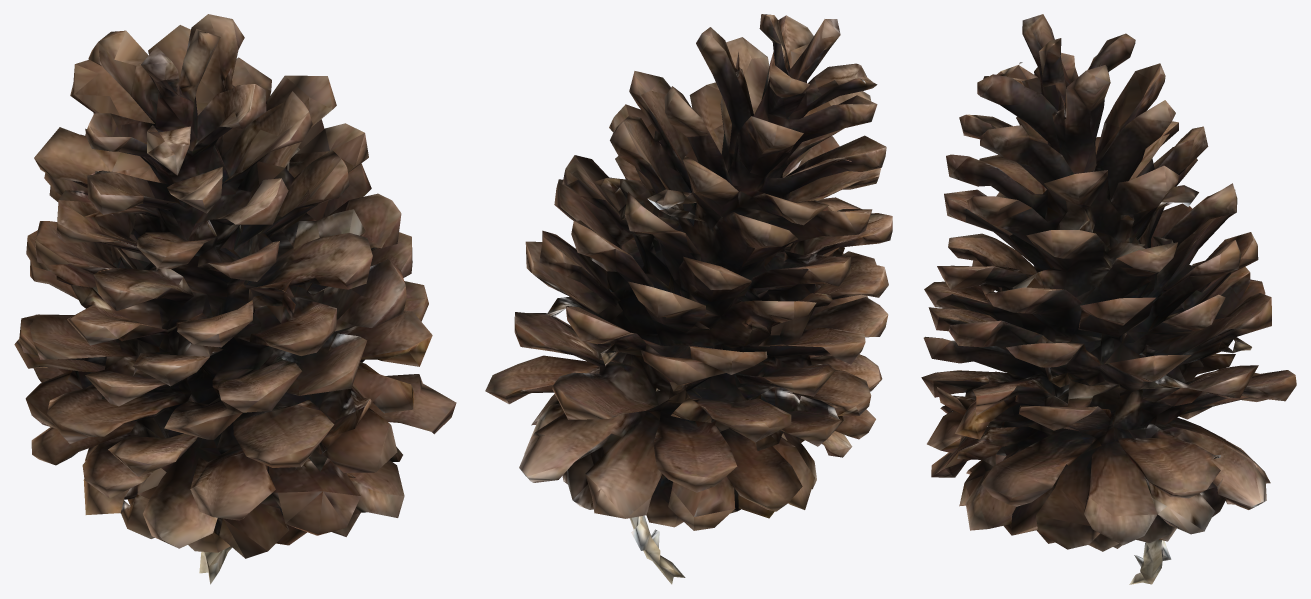
Rendered from pinecone.glb.
3 renders of one model, left to right at view 1: azimuth 30°, elevation 25°; view 2: azimuth 150°, elevation 25°; view 3: azimuth 270°, elevation 25°, orthographic. The views are drawn at different scales.
Visible parts, largest first — view 1: pinecone; view 2: pinecone; view 3: pinecone.
Boxes of the visible parts, left/top/right/bottom form: pinecone: left=14, top=14, right=456, bottom=584; pinecone: left=485, top=14, right=892, bottom=584; pinecone: left=921, top=14, right=1296, bottom=584.
Size of the model in its own units: 0.3886 by 0.5988 by 0.3869.
1 material, 1 textured.
